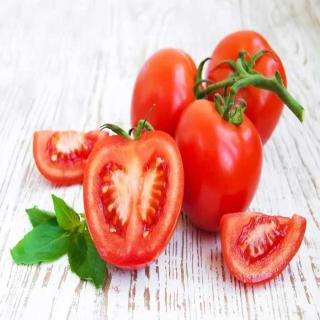Tomat: (84, 104, 186, 270), (175, 88, 264, 233)
